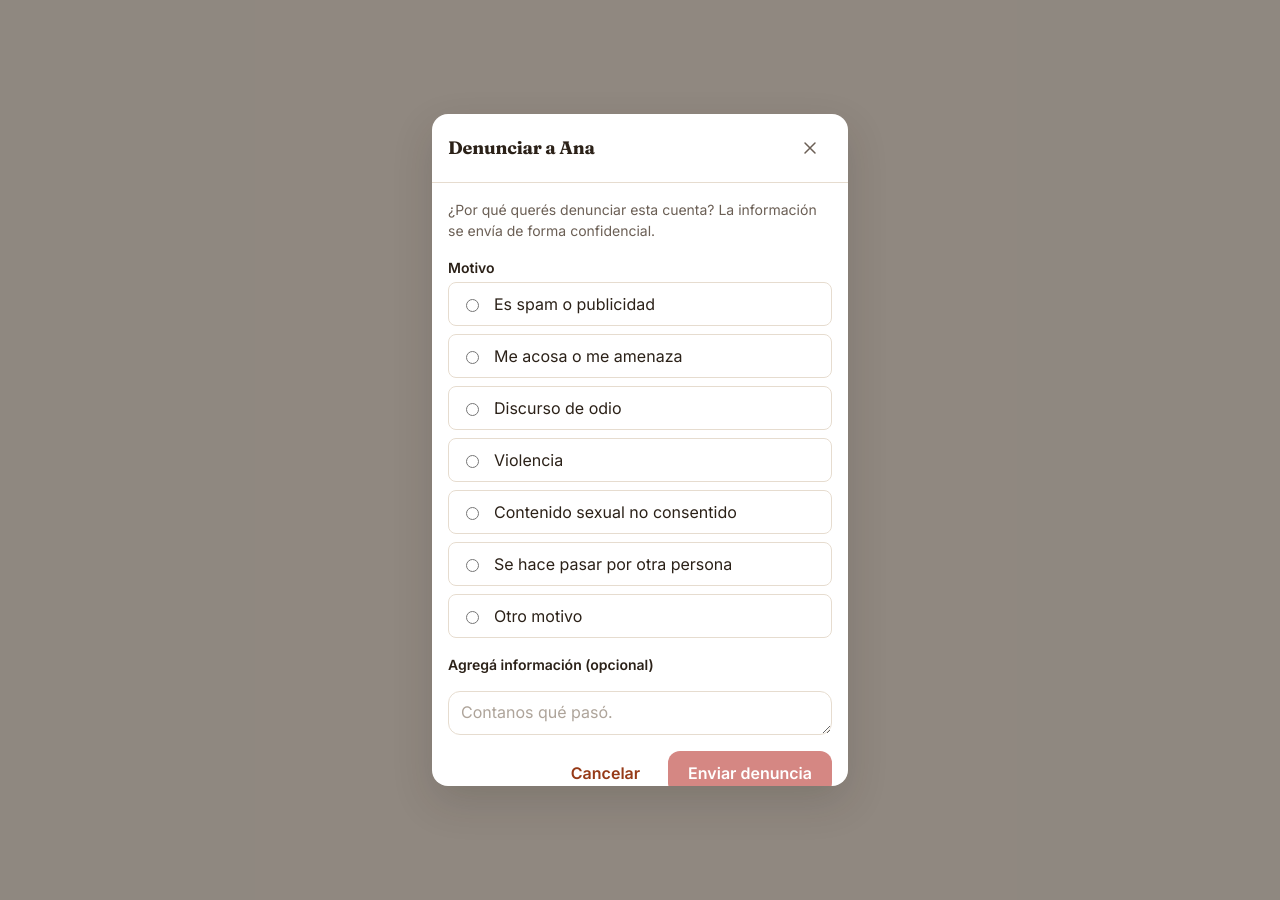
ReportModal › confirma que la denuncia se envió
Click the radio button labelled "Es spam o publicidad".
click(472, 306)  # box [466,299,479,312]
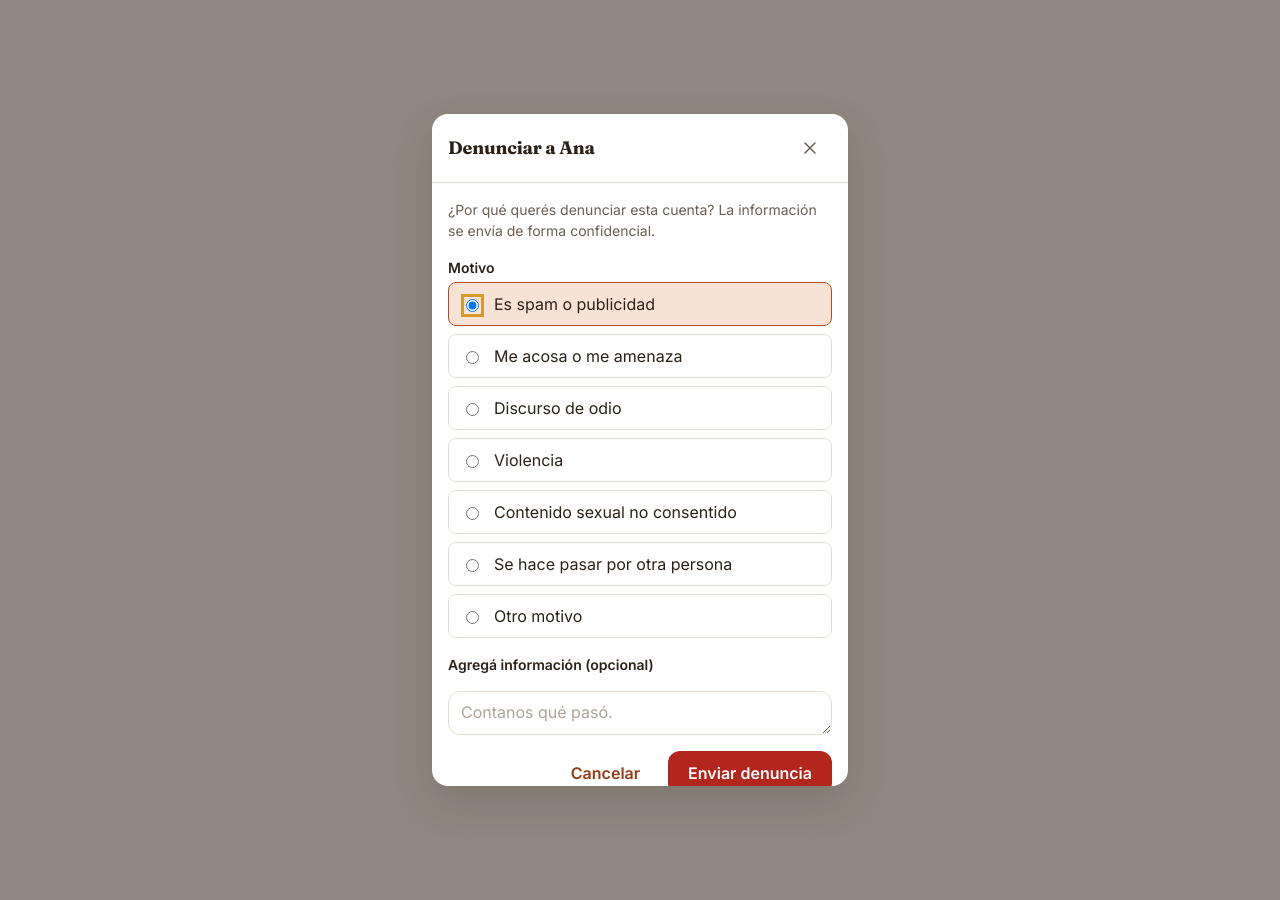
Click the button "Enviar denuncia".
click(750, 773)  # box [668,751,832,795]
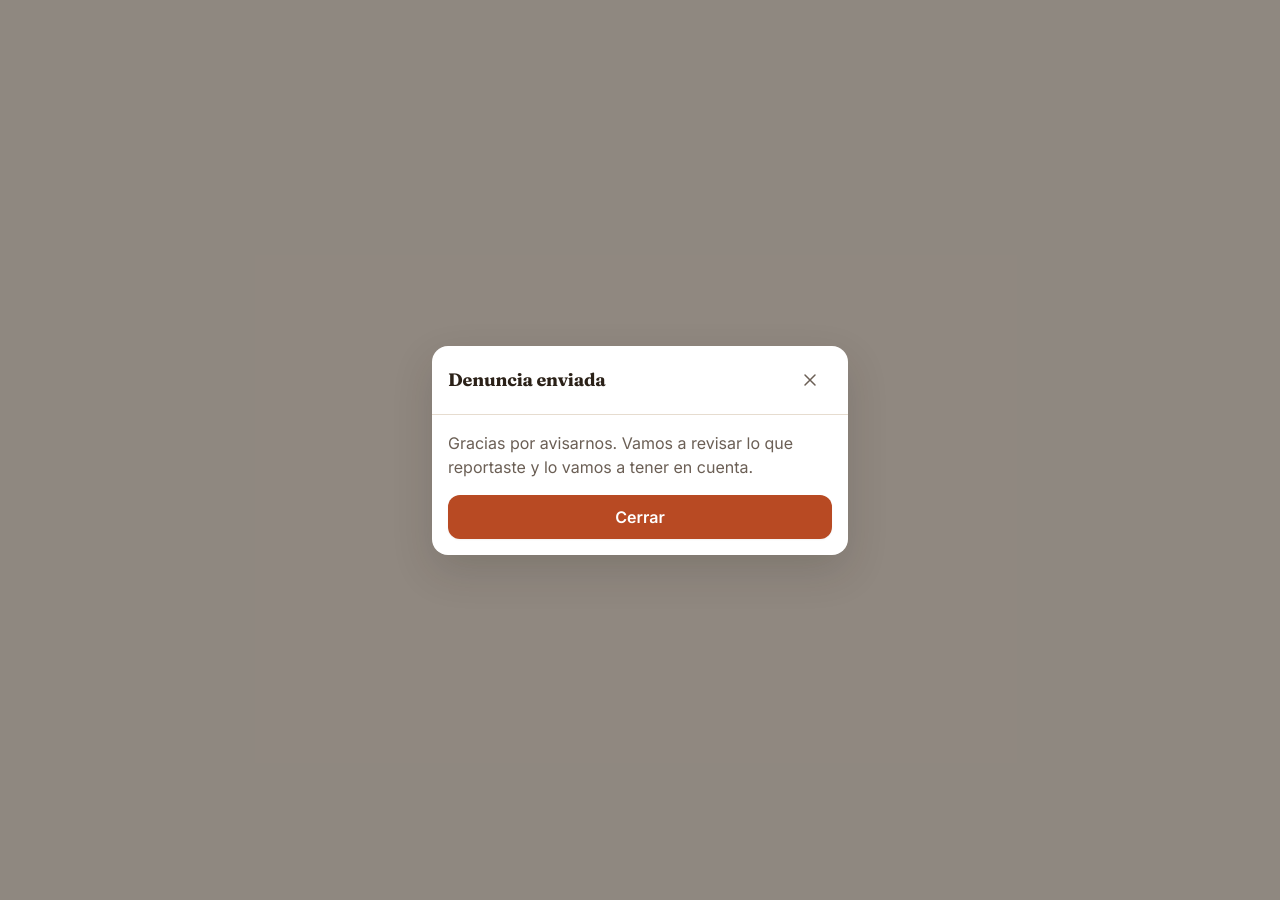
Now the heading "Denuncia enviada" is shown, box [448,369,606,390]
